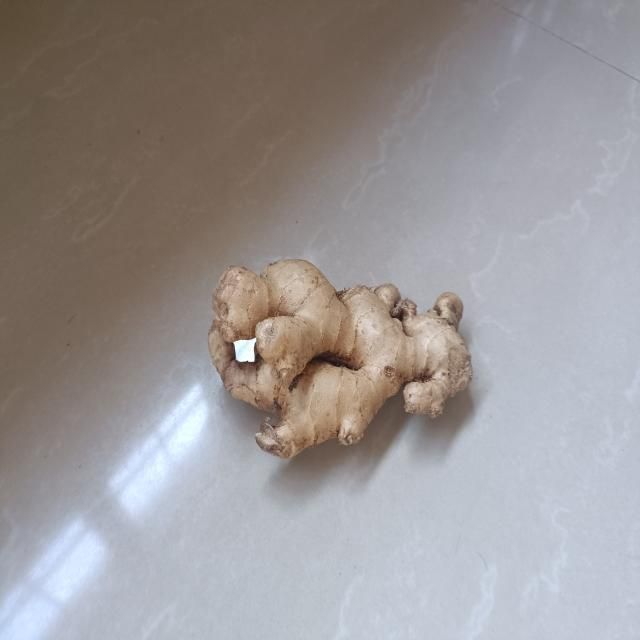ginger: (207, 255, 473, 463)
